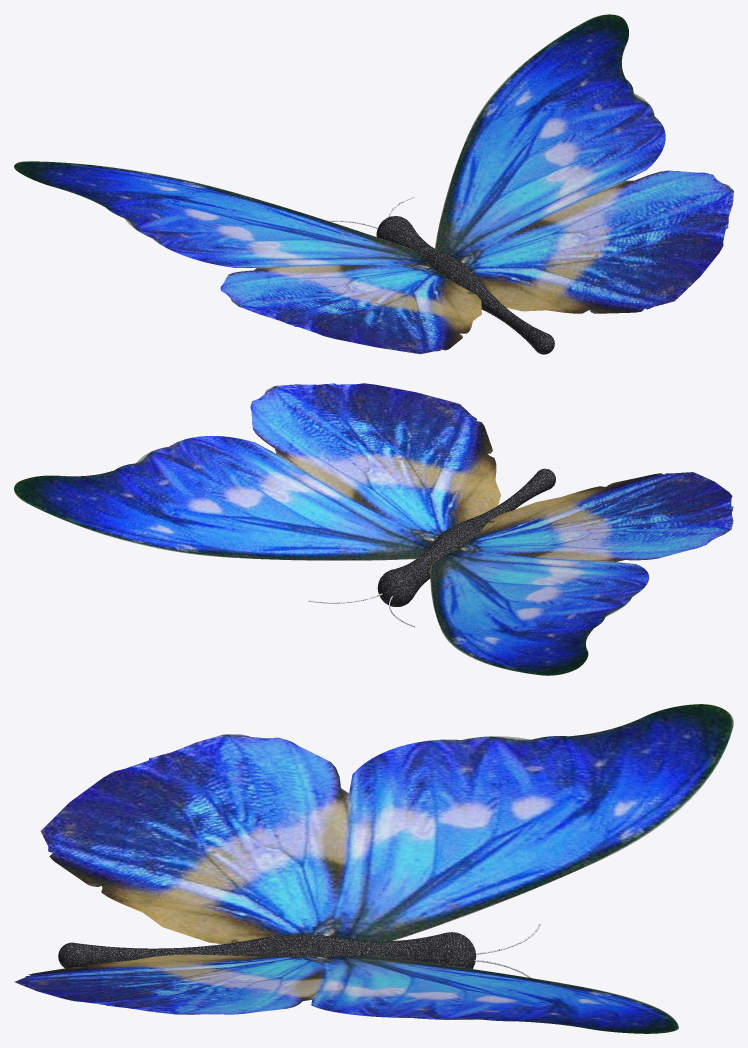
File: Butterfly.dae
3 views of the same model, one above another, from view 1: azimuth 30°, elevation 25°; view 2: azimuth 150°, elevation 25°; view 3: azimuth 270°, elevation 25° (orthographic). The views are drawn at different scales.
Parts seen in each view (by area): view 1: Component_1 (×2), Component_2; view 2: Component_1 (×2), Component_2; view 3: Component_1 (×2), Component_2.
Boxes of the visible parts, x1,y1,x2,y2 form: Component_1 (×2): (14, 14, 733, 354); Component_2: (376, 216, 554, 354); Component_1 (×2): (14, 383, 733, 675); Component_2: (377, 468, 555, 606); Component_1 (×2): (14, 704, 733, 1033); Component_2: (58, 932, 476, 968).
Bounding box in the file's own units: 14.51 × 12.13 × 2.49.
